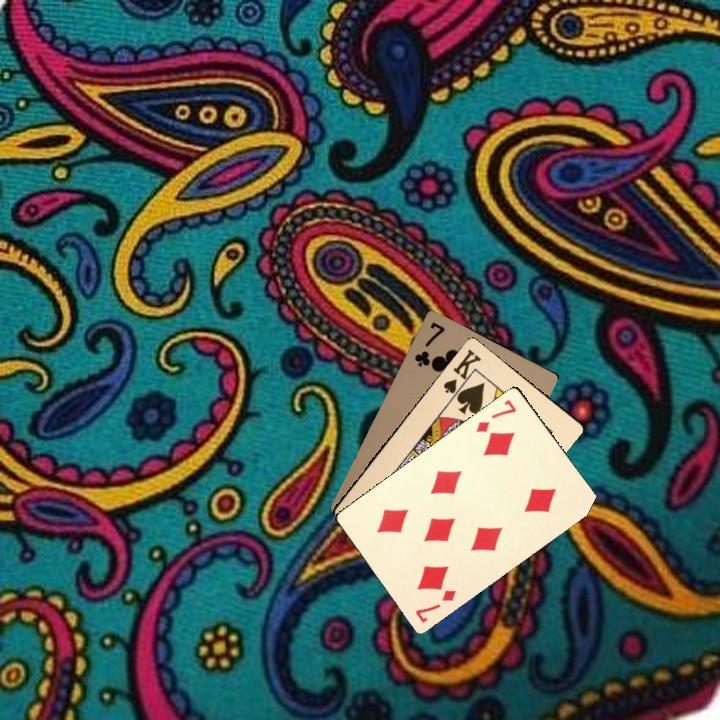7c: (410, 318, 448, 369)
7d: (472, 395, 519, 435), (411, 586, 458, 625)
Ks: (439, 345, 483, 400)
